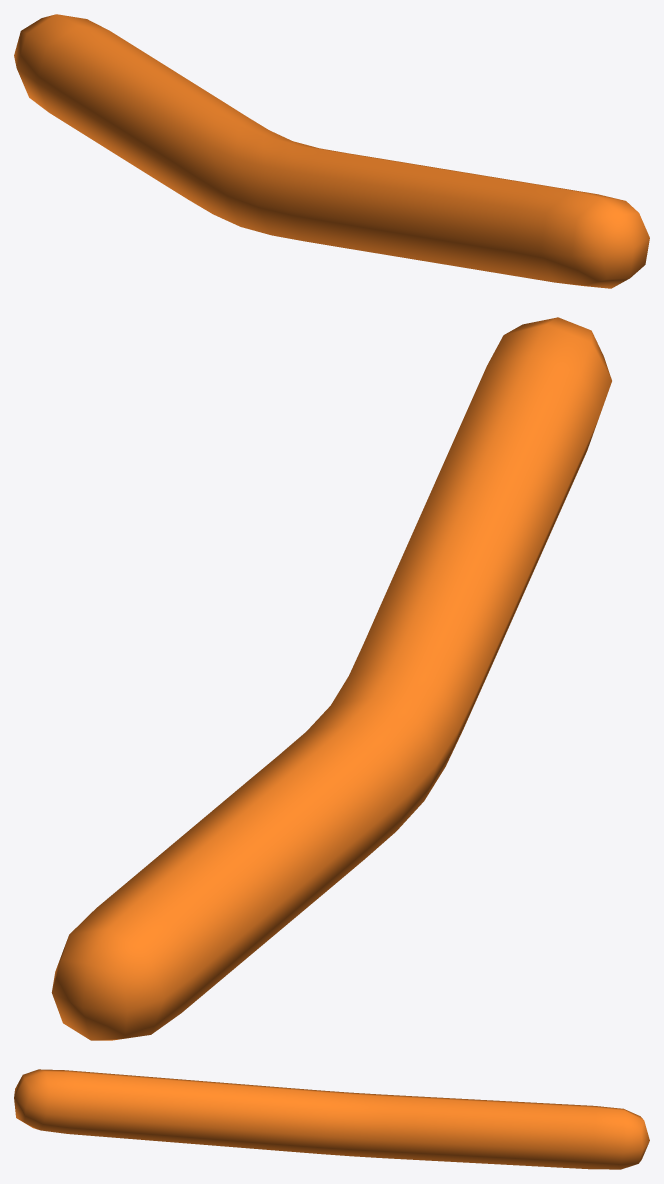
The model's file is GEO_Powertrain_HV_Rear_Cable_L.glb.
3 renders of one model, top to bottom at view 1: azimuth 30°, elevation 25°; view 2: azimuth 150°, elevation 25°; view 3: azimuth 270°, elevation 25°, orthographic. The views are drawn at different scales.
Parts seen in each view (by area): view 1: GEO_Powertrain_HV_Rear_Cable_L; view 2: GEO_Powertrain_HV_Rear_Cable_L; view 3: GEO_Powertrain_HV_Rear_Cable_L.
Part boxes in pixels (x1,y1,x2,y2): GEO_Powertrain_HV_Rear_Cable_L: (14,14,649,288); GEO_Powertrain_HV_Rear_Cable_L: (51,317,611,1040); GEO_Powertrain_HV_Rear_Cable_L: (14,1069,649,1169).
Size of the model in its own units: 0.081 by 0.0802 by 0.3547.
